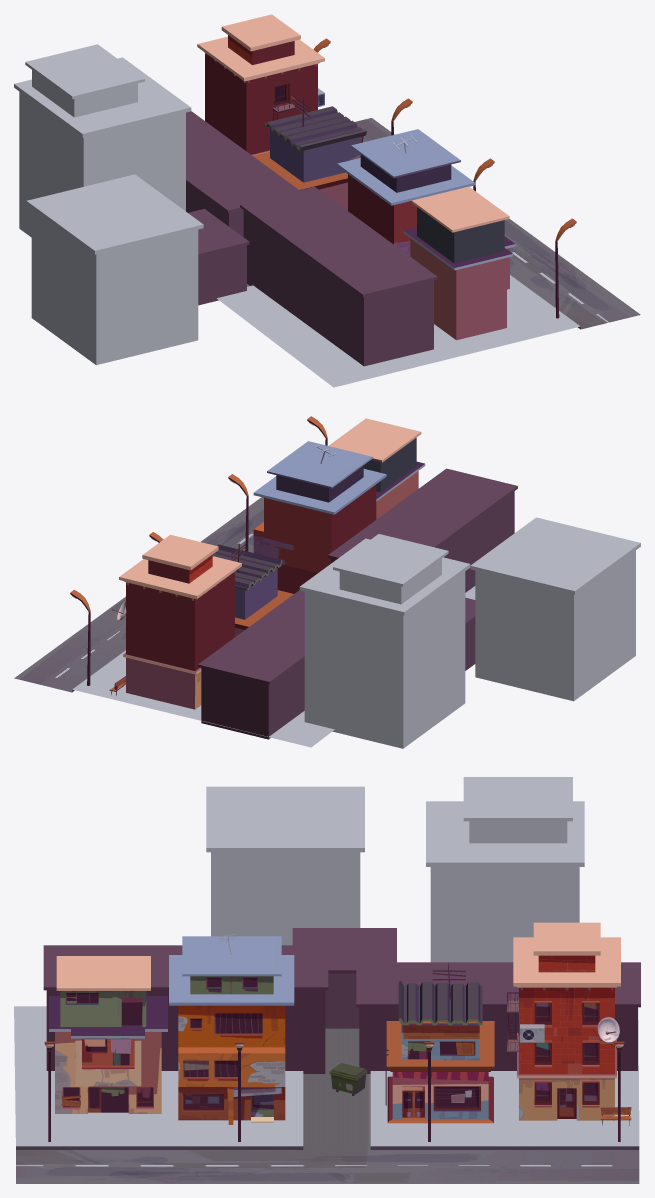
The model's file is red_building-transformed.glb.
3 views of the same model, one above another, from view 1: azimuth 30°, elevation 25°; view 2: azimuth 150°, elevation 25°; view 3: azimuth 270°, elevation 25° (orthographic). The views are drawn at different scales.
Parts seen in each view (by area): view 1: Cube_Road_0, Plane_Road_0, 1.001_Bina1_0, 4.001_Bina4_0, 3.001_Bina3_0, 2.001_Bina2_0, Lights.001_Others_0; view 2: Cube_Road_0, 1.001_Bina1_0, 3.001_Bina3_0, Plane_Road_0, 4.001_Bina4_0, 2.001_Bina2_0, Lights.001_Others_0; view 3: Cube_Road_0, Plane_Road_0, 3.001_Bina3_0, 1.001_Bina1_0, 4.001_Bina4_0, 2.001_Bina2_0, Lights.001_Others_0, Garbage.001_Others_0.
Part boxes in pixels (x1,y1,x2,y2): Cube_Road_0: (14, 44, 437, 366); Plane_Road_0: (217, 118, 640, 387); 1.001_Bina1_0: (197, 14, 324, 155); 4.001_Bina4_0: (403, 186, 515, 340); 3.001_Bina3_0: (337, 129, 475, 256); 2.001_Bina2_0: (253, 98, 366, 210); Lights.001_Others_0: (313, 38, 576, 318); Cube_Road_0: (198, 468, 640, 748); 1.001_Bina1_0: (112, 534, 241, 709); 3.001_Bina3_0: (253, 441, 386, 593); Plane_Road_0: (14, 497, 475, 747); 4.001_Bina4_0: (328, 418, 425, 519); 2.001_Bina2_0: (212, 543, 293, 636); Lights.001_Others_0: (70, 416, 327, 685); Cube_Road_0: (43, 777, 640, 1073); Plane_Road_0: (14, 1006, 639, 1183); 3.001_Bina3_0: (169, 933, 294, 1124); 1.001_Bina1_0: (507, 922, 620, 1120); 4.001_Bina4_0: (49, 956, 167, 1113); 2.001_Bina2_0: (385, 963, 494, 1123); Lights.001_Others_0: (44, 1041, 624, 1141); Garbage.001_Others_0: (329, 1063, 367, 1095).
Bounding box in the file's own units: 6.49 × 2.25 × 6.56.
Materials: 6 (6 with a texture image).
